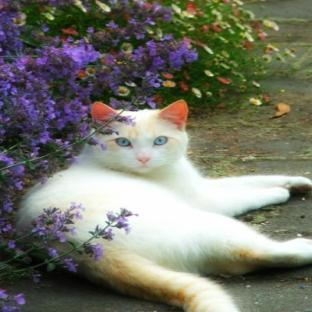Animal: (16, 100, 311, 311)
